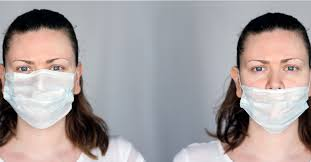cloth_mask: (2, 71, 75, 127)
